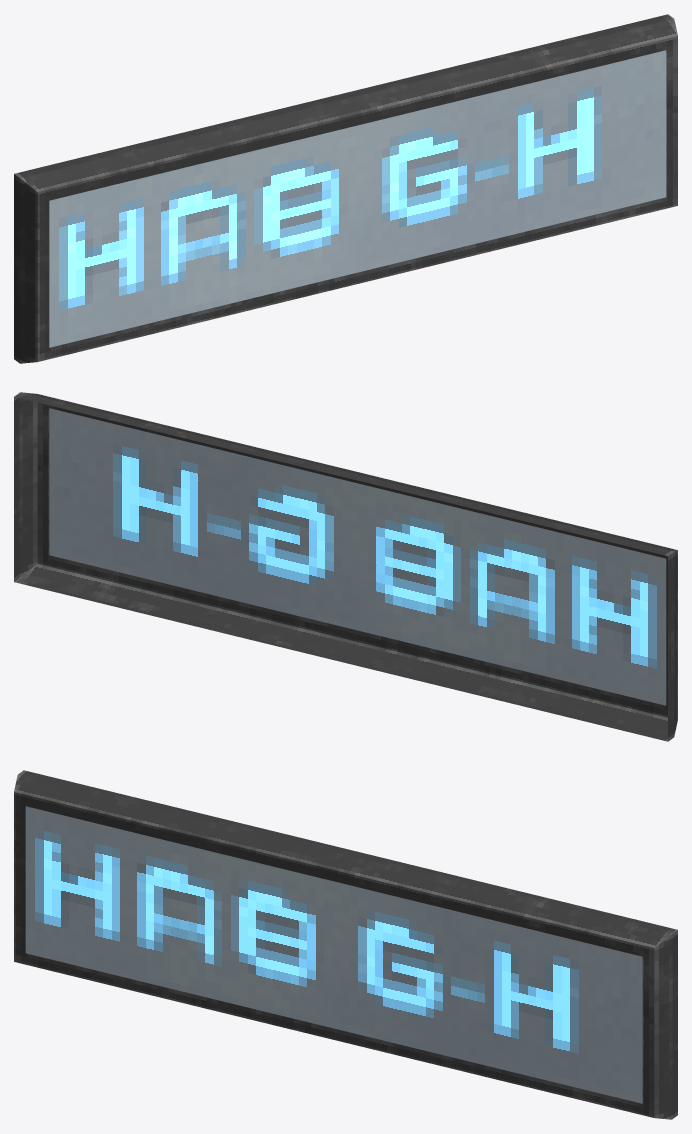
The model's file is small_habGH.glb.
The picture shows the model from 3 angles, top to bottom: view 1: azimuth 30°, elevation 25°; view 2: azimuth 150°, elevation 25°; view 3: azimuth 330°, elevation 25°; orthographic projection.
Parts seen in each view (by area): view 1: Sign-Small_HabGH; view 2: Sign-Small_HabGH; view 3: Sign-Small_HabGH.
Part boxes in pixels (x1,y1,x2,y2): Sign-Small_HabGH: (14,14,677,363); Sign-Small_HabGH: (14,392,677,741); Sign-Small_HabGH: (14,770,677,1119).
Size of the model in its own units: 9.3 by 2.52 by 0.4128.
Materials: 1 (1 with a texture image).
